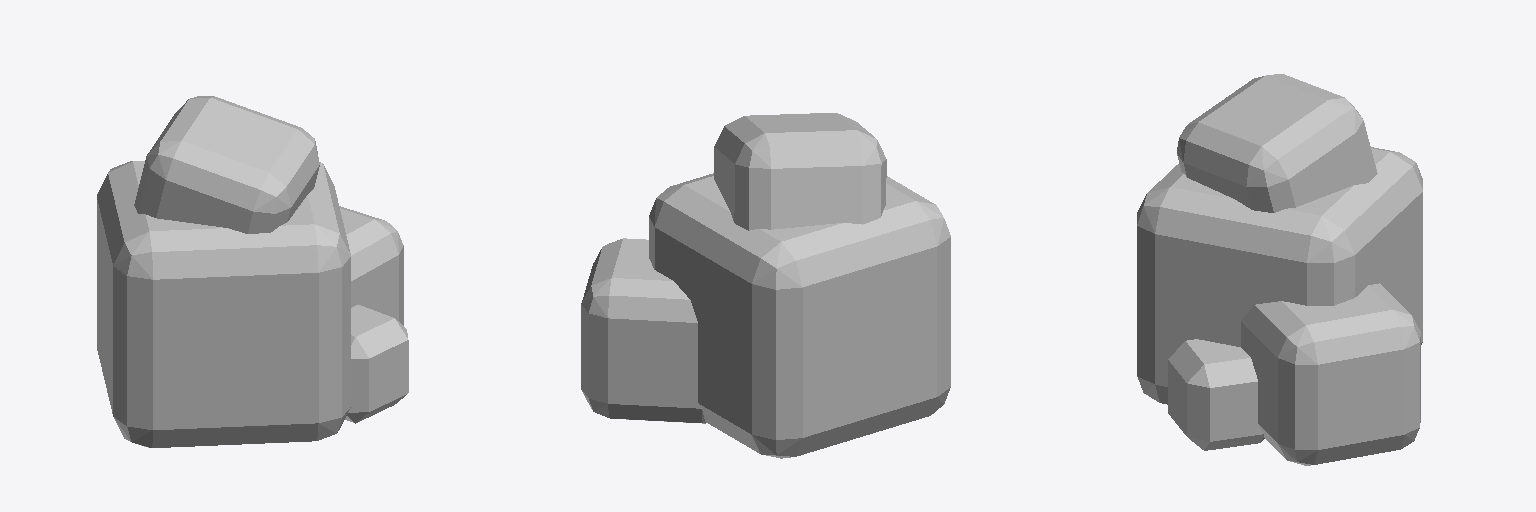
File: Bush_2_F_Color1.obj
3 views of the same model, side by side, from view 1: azimuth 30°, elevation 25°; view 2: azimuth 150°, elevation 25°; view 3: azimuth 270°, elevation 25° (orthographic).
Parts seen in each view (by area): view 1: Bush_2_F_Color1; view 2: Bush_2_F_Color1; view 3: Bush_2_F_Color1.
Part boxes in pixels (x1,y1,x2,y2): Bush_2_F_Color1: (97,96,408,447); Bush_2_F_Color1: (581,113,950,458); Bush_2_F_Color1: (1137,74,1422,465).
Size of the model in its own units: 2.01 by 1.79 by 1.59.